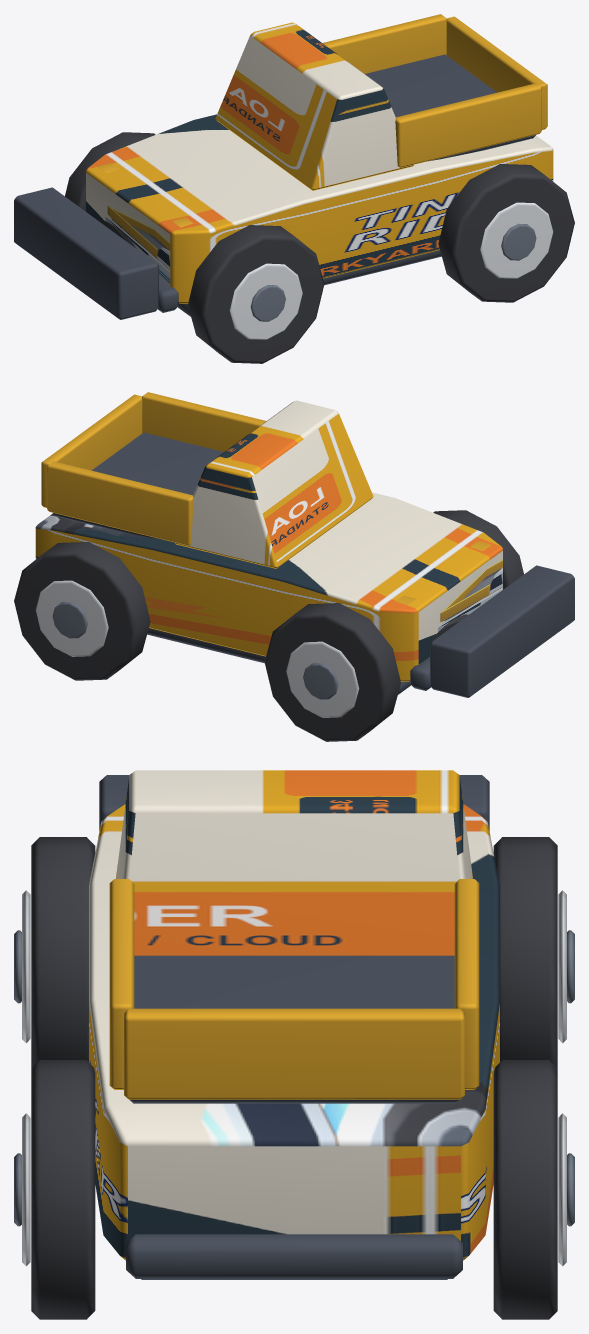
3 renders of one model, top to bottom at view 1: azimuth 30°, elevation 25°; view 2: azimuth 150°, elevation 25°; view 3: azimuth 270°, elevation 25°, orthographic. The views are drawn at different scales.
Parts seen in each view (by area): view 1: WY-05_connected_shell, WY-05_cabin, loader bucket, Tire.002, Tire, cargo side, cargo floor, cargo side.001, cargo tail, Rim, Rim.002, Tire.001 (+4 smaller); view 2: WY-05_connected_shell, WY-05_cabin, loader bucket, Tire.003, Tire.001, cargo side.001, cargo floor, cargo side, cargo tail, Rim.001, Rim.003, Tire (+4 smaller); view 3: WY-05_connected_shell, WY-05_cabin, cargo tail, cargo floor, Tire.002, Tire.003, rear bumper, Tire, Tire.001, cargo side, cargo side.001, loader bucket (+4 smaller).
Boxes of the visible parts, left/top/right/bottom form: WY-05_connected_shell: left=86, top=114, right=553, bottom=303; WY-05_cabin: left=215, top=22, right=413, bottom=190; loader bucket: left=14, top=187, right=158, bottom=319; Tire.002: left=438, top=164, right=574, bottom=302; Tire: left=188, top=225, right=324, bottom=363; cargo side: left=395, top=83, right=541, bottom=167; cargo floor: left=365, top=54, right=535, bottom=161; cargo side.001: left=322, top=14, right=446, bottom=73; cargo tail: left=446, top=16, right=547, bottom=129; Rim: left=229, top=263, right=302, bottom=339; Rim.002: left=480, top=202, right=553, bottom=278; Tire.001: left=65, top=132, right=155, bottom=211; WY-05_connected_shell: left=35, top=492, right=502, bottom=681; WY-05_cabin: left=175, top=400, right=373, bottom=568; loader bucket: left=430, top=565, right=574, bottom=697; Tire.003: left=14, top=542, right=150, bottom=680; Tire.001: left=264, top=603, right=400, bottom=741; cargo side.001: left=47, top=461, right=193, bottom=545; cargo floor: left=53, top=432, right=223, bottom=539; cargo side: left=142, top=392, right=266, bottom=451; cargo tail: left=41, top=394, right=142, bottom=507; Rim.001: left=286, top=641, right=359, bottom=717; Rim.003: left=35, top=580, right=108, bottom=656; Tire: left=433, top=510, right=523, bottom=589; WY-05_connected_shell: left=89, top=804, right=499, bottom=1260; WY-05_cabin: left=116, top=770, right=472, bottom=955; cargo tail: left=124, top=1008, right=464, bottom=1099; cargo floor: left=129, top=955, right=459, bottom=1103; Tire.002: left=31, top=1060, right=95, bottom=1319; Tire.003: left=493, top=1060, right=557, bottom=1319; rear bumper: left=126, top=1234, right=462, bottom=1278; Tire: left=31, top=837, right=95, bottom=1068; Tire.001: left=493, top=837, right=557, bottom=1068; cargo side: left=109, top=879, right=134, bottom=1089; cargo side.001: left=454, top=879, right=479, bottom=1089; loader bucket: left=99, top=775, right=489, bottom=830.
Bounding box in the file's own units: 389 × 183 × 228.
